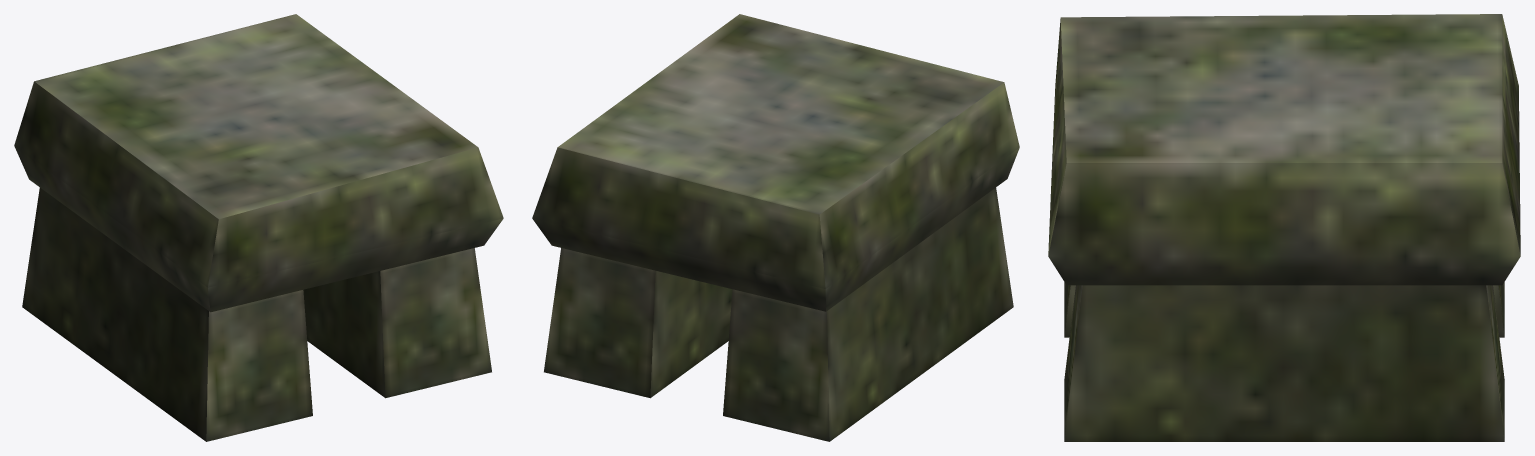
File: shizhuo03_qt.FBX
The picture shows the model from 3 angles, left to right: view 1: azimuth 30°, elevation 25°; view 2: azimuth 150°, elevation 25°; view 3: azimuth 270°, elevation 25°; orthographic projection. The views are drawn at different scales.
Parts seen in each view (by area): view 1: shizhuo03_qt_A; view 2: shizhuo03_qt_A; view 3: shizhuo03_qt_A.
Part boxes in pixels (x1,y1,x2,y2): shizhuo03_qt_A: (14,14,503,441); shizhuo03_qt_A: (532,14,1019,441); shizhuo03_qt_A: (1048,14,1520,441).
Bounding box in the file's own units: 49.39 × 57.69 × 36.6.
